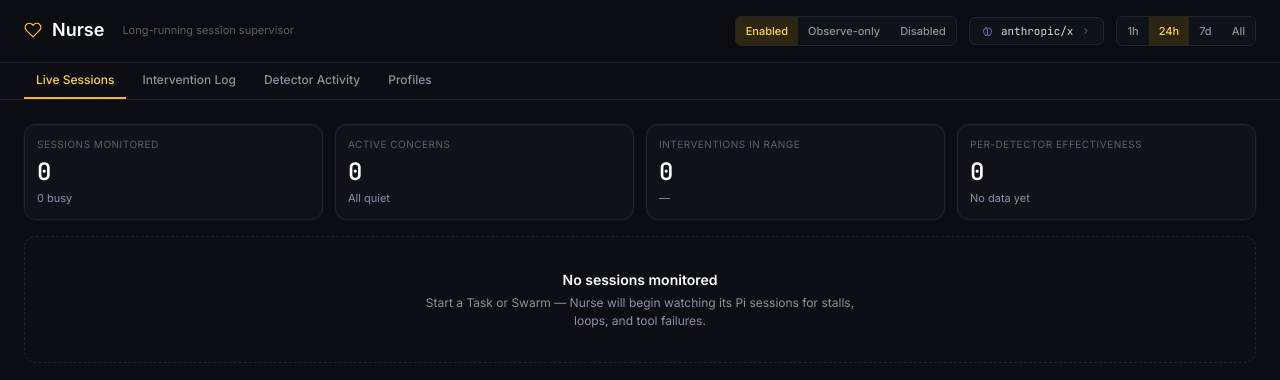
Scenario: Nurse screen tab routing › switches to the Detectors tab and renders the empty-state message
The image size is (1280, 380).
Click the tab with test id "nurse-tab-detectors" at (312, 81), box x1=252 y1=63 x2=372 y2=99
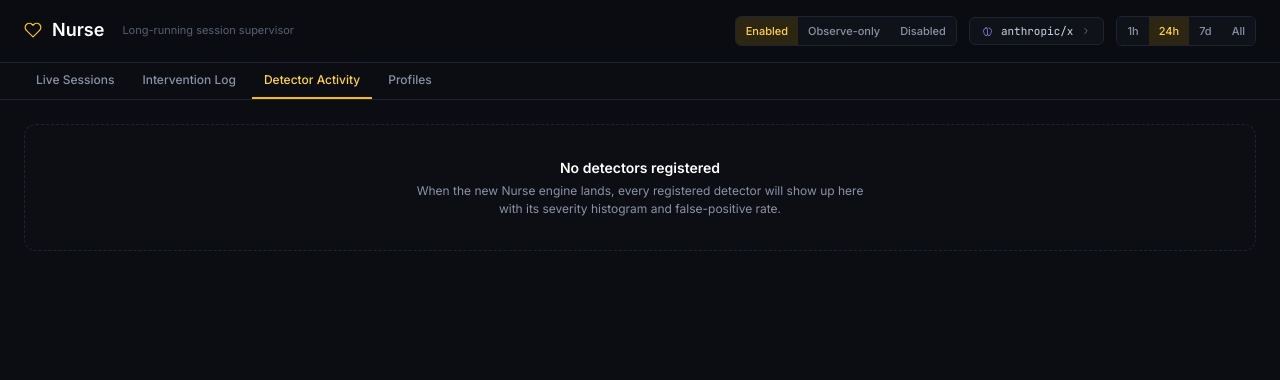
expect the text "No detectors registered" is shown: met, box x1=560 y1=159 x2=720 y2=176
